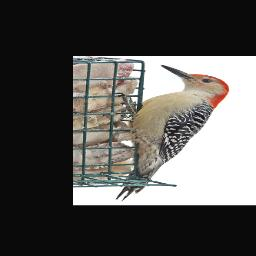Woodpecker: (114, 63, 229, 202)
